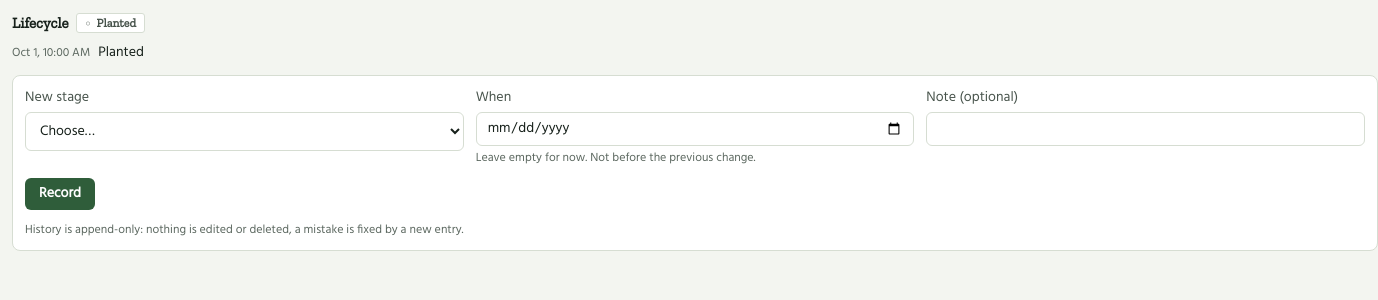
Scenario: lifecycle panel › does not submit without a stage
What coordinates should you click on to do the following:
click the button "Record"
I would click on:
 (60, 194)
Its box is [25,178,95,210].
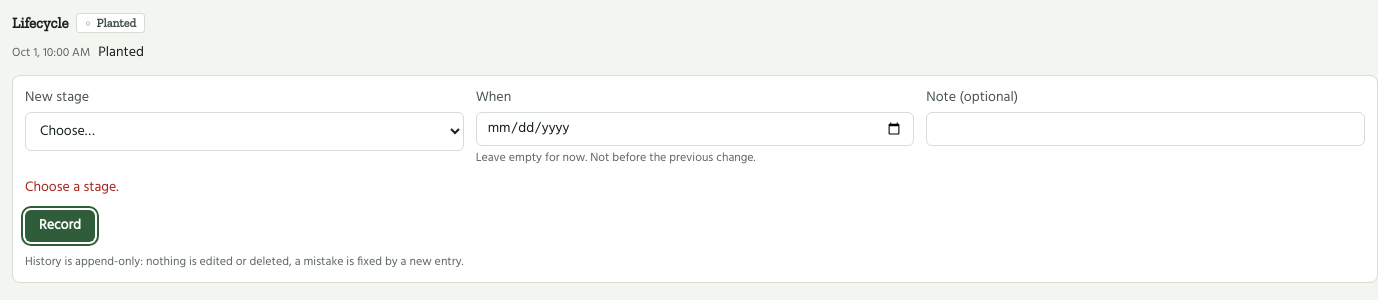
Result: the message reads "Choose a stage." at [25,176,119,198]
